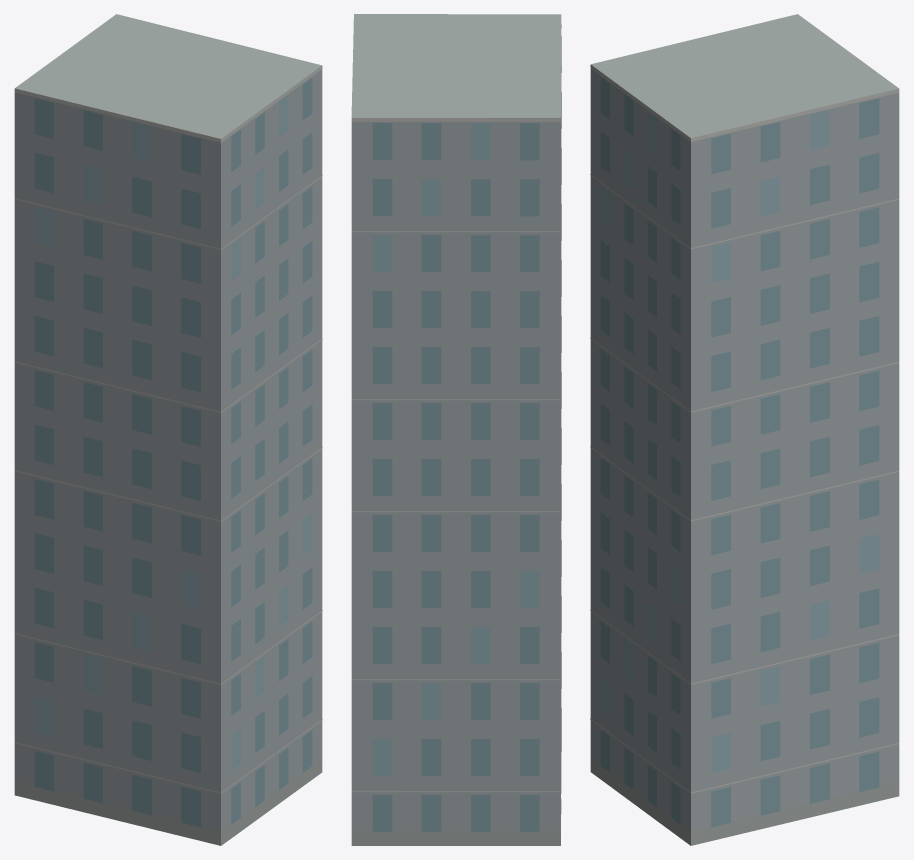
File: survey-upis-32682163.glb
3 renders of one model, left to right at view 1: azimuth 30°, elevation 25°; view 2: azimuth 150°, elevation 25°; view 3: azimuth 270°, elevation 25°, orthographic. The views are drawn at different scales.
Visible parts, largest first — view 1: survey-upis-32682163.tmp; view 2: survey-upis-32682163.tmp; view 3: survey-upis-32682163.tmp.
Boxes of the visible parts, left/top/right/bottom form: survey-upis-32682163.tmp: left=14, top=14, right=322, bottom=845; survey-upis-32682163.tmp: left=351, top=14, right=561, bottom=845; survey-upis-32682163.tmp: left=590, top=14, right=899, bottom=845.
Size of the model in its own units: 16.78 by 44.5 by 17.62.
